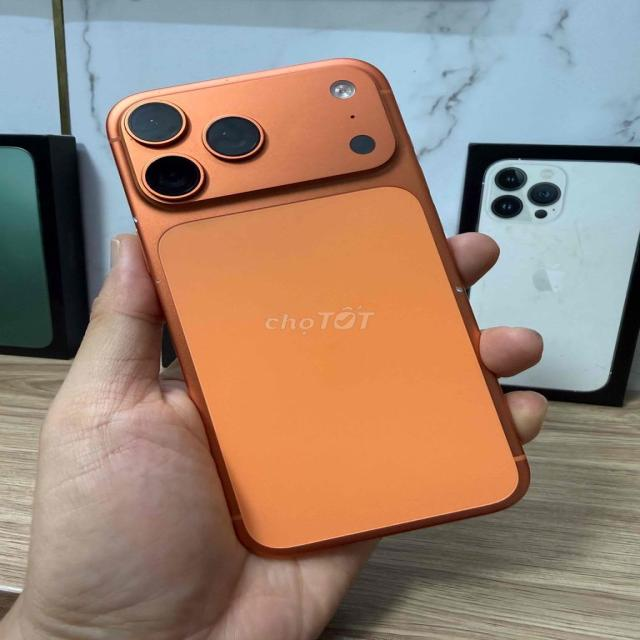gen_17: (104, 59, 545, 566)
